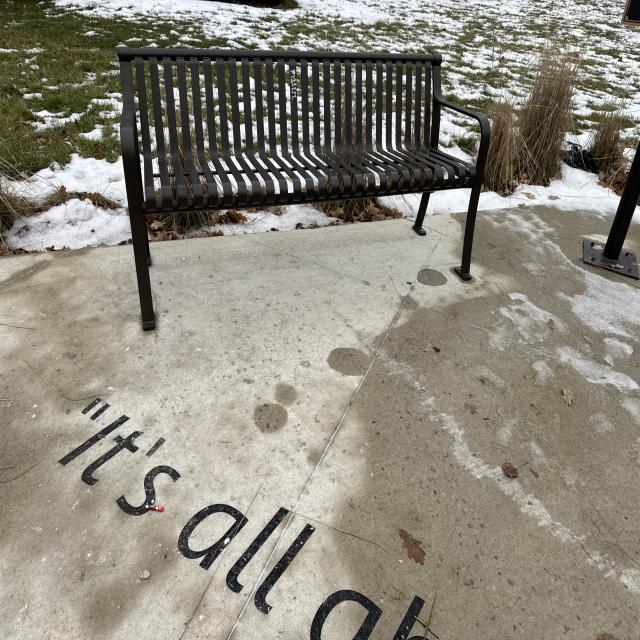Bench: (102, 42, 482, 328)
